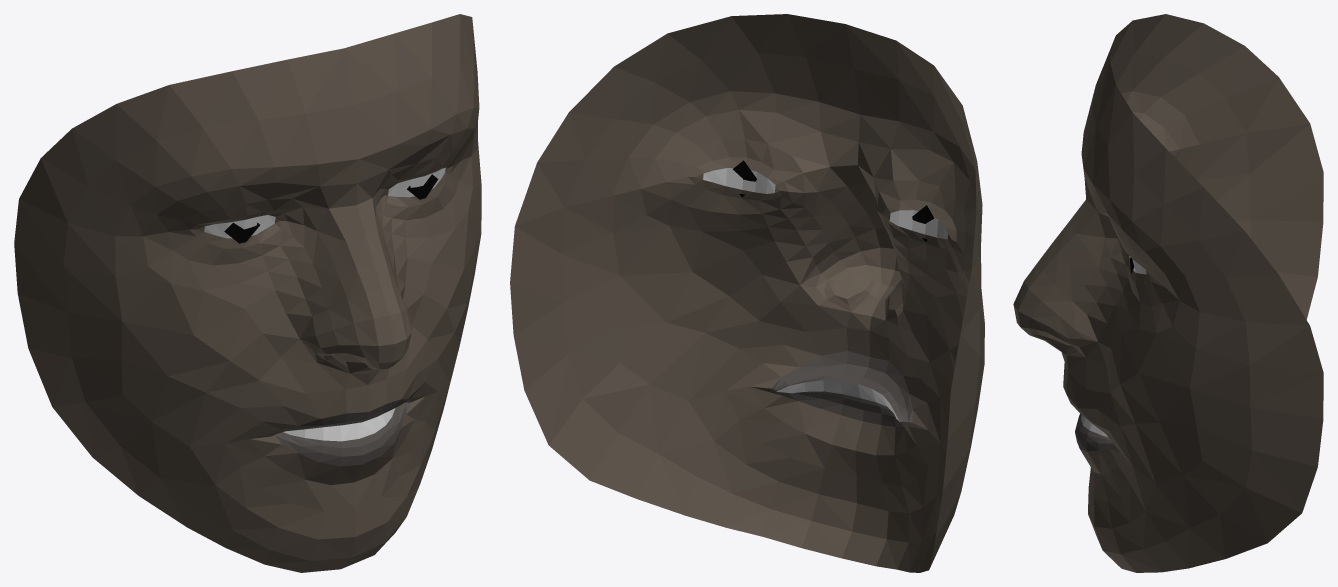
The model's file is face_model_with_iris.obj.
3 views of the same model, side by side, from view 1: azimuth 30°, elevation 25°; view 2: azimuth 150°, elevation 25°; view 3: azimuth 270°, elevation 25° (orthographic). The views are drawn at different scales.
Visible parts, largest first — view 1: face_model_with_iris; view 2: face_model_with_iris; view 3: face_model_with_iris.
Boxes of the visible parts, x1,y1,x2,y2 form: face_model_with_iris: [14, 14, 481, 572]; face_model_with_iris: [510, 14, 984, 572]; face_model_with_iris: [1013, 14, 1323, 572].
Size of the model in its own units: 15.49 by 17.67 by 10.02.
